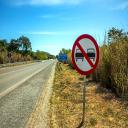NoUltrapassar: (71, 34, 101, 76)
